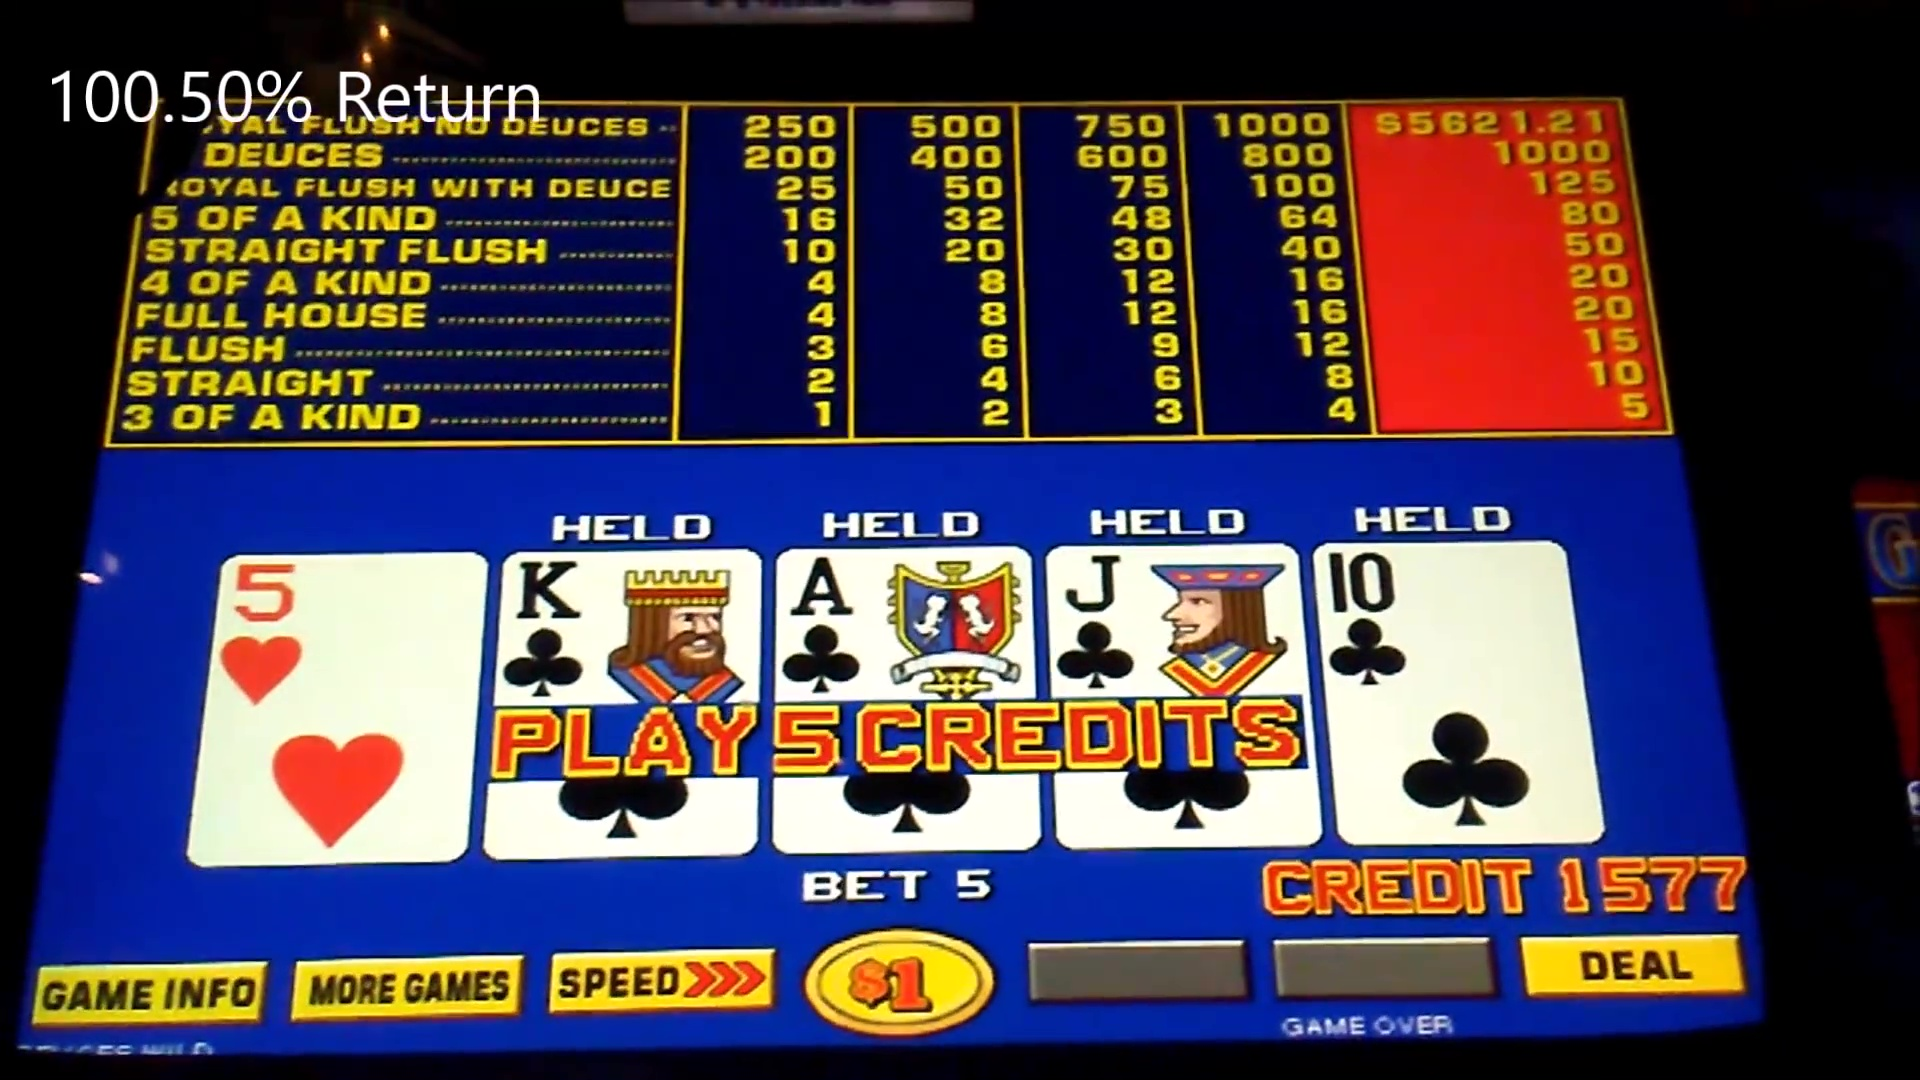CA: (778, 550, 1026, 694)
CJ: (1051, 550, 1303, 694)
CK: (509, 554, 749, 698)
CT: (1327, 545, 1569, 694)
H5: (218, 556, 475, 692)
